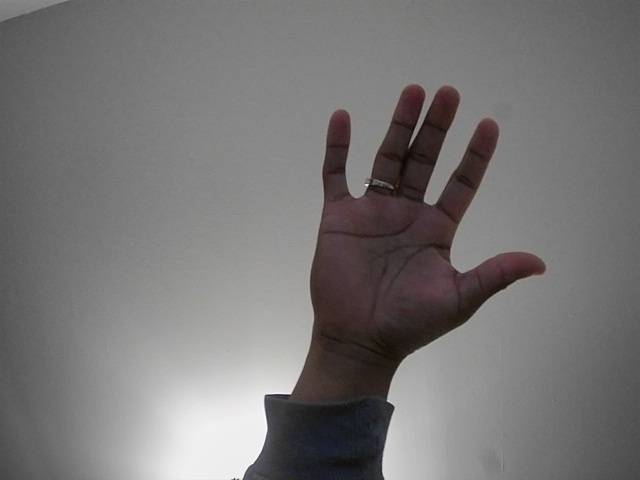Hello: (215, 53, 501, 339)
